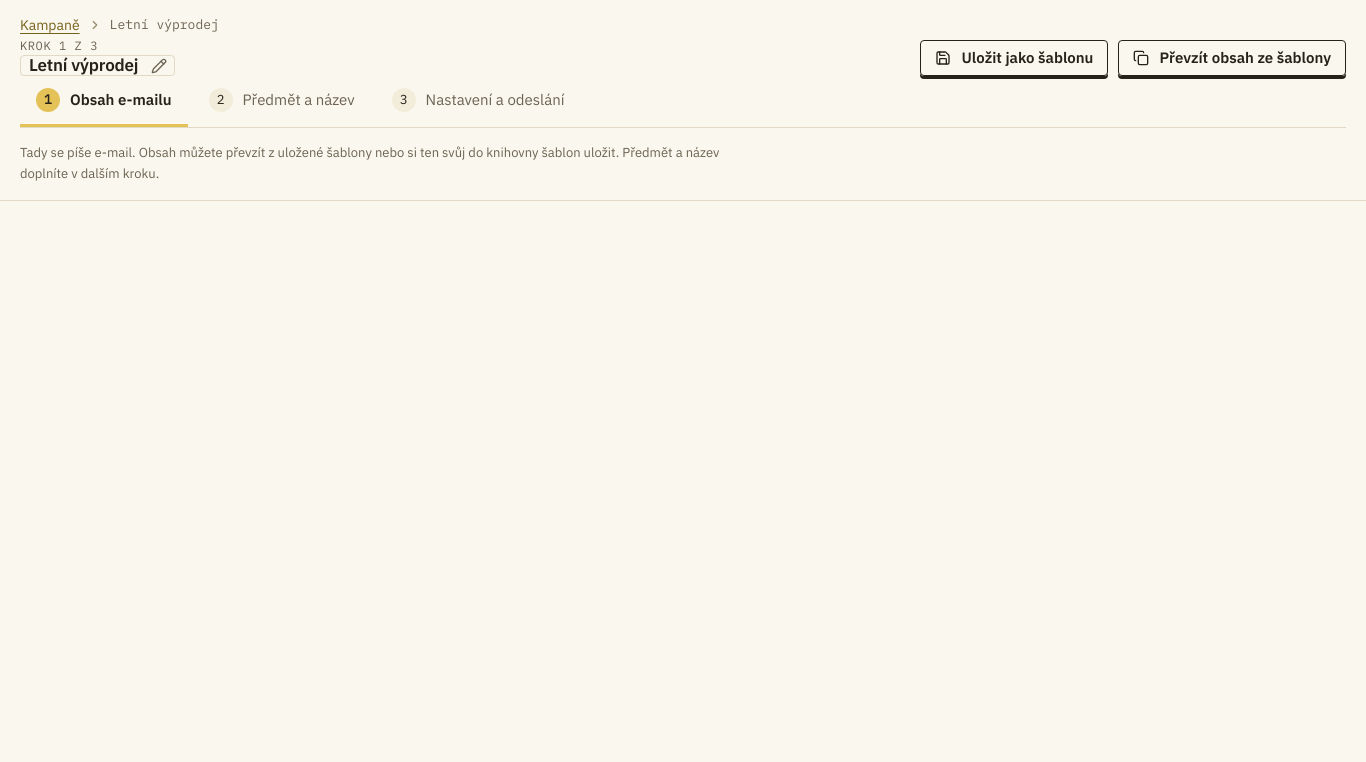
editor jako krok 1 kampaně › uříznutý seznam přizná, že v knihovně je toho víc
This screenshot has width=1366, height=762.
Click the button with test id "use-library-open".
click(1232, 58)  # box [1118,40,1346,76]
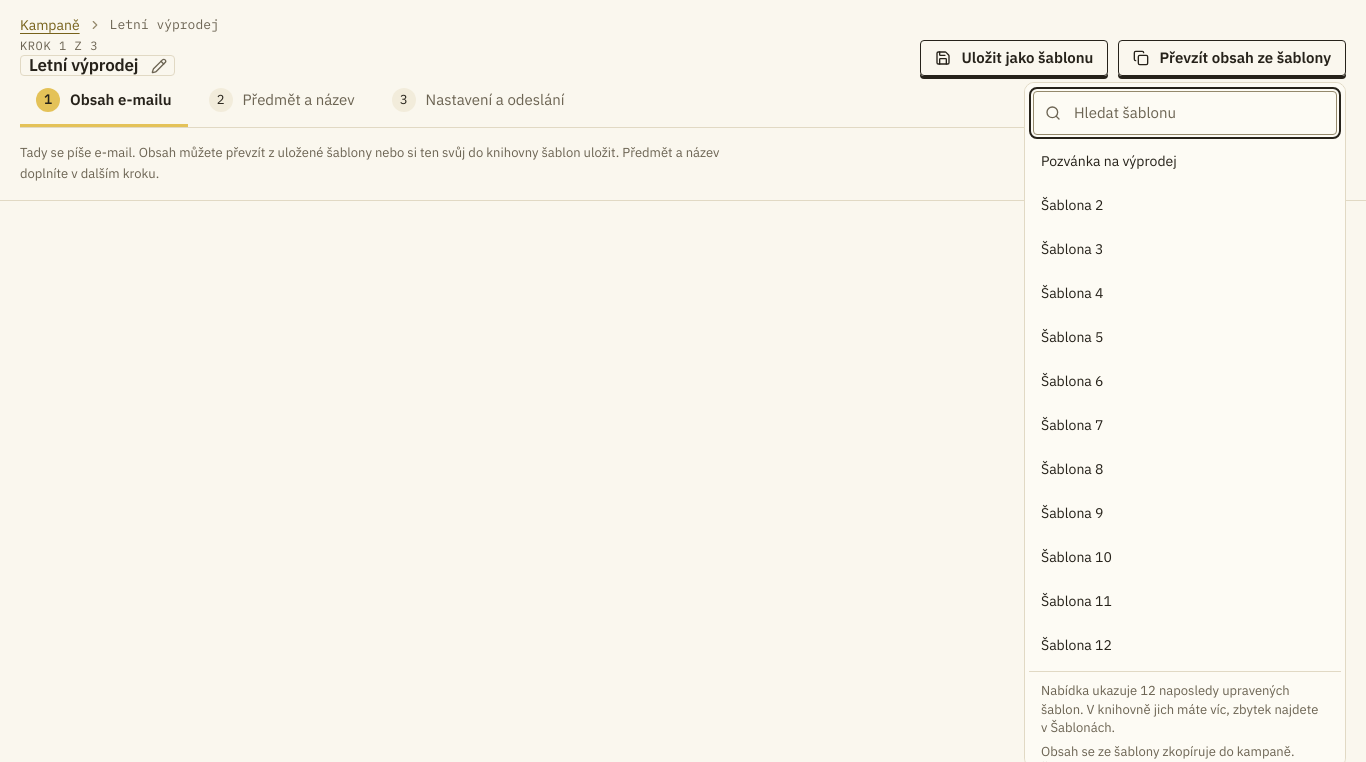
Expected: the text "Nabídka ukazuje 12 naposledy upravených šablon" is shown, [1041,682,1318,736]
